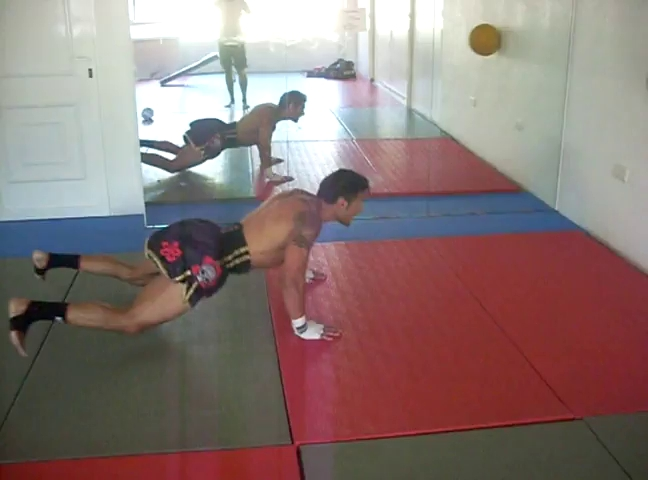person: (9, 168, 369, 358), (139, 90, 306, 182)
